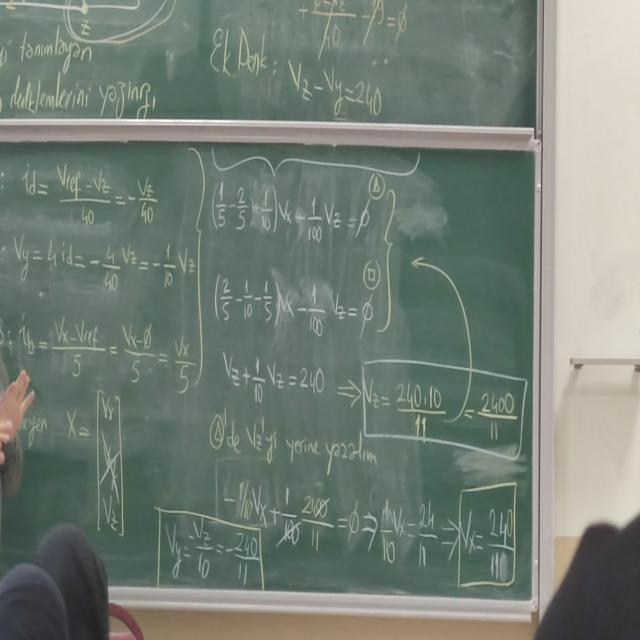math: (235, 483, 519, 576), (8, 302, 202, 404), (212, 259, 384, 351), (8, 231, 205, 297), (211, 169, 374, 246), (13, 159, 170, 234), (367, 373, 518, 447), (158, 511, 269, 593), (217, 345, 327, 410), (280, 58, 391, 114)
text: (201, 411, 380, 477), (2, 68, 166, 124), (204, 19, 279, 86), (5, 29, 99, 69)
